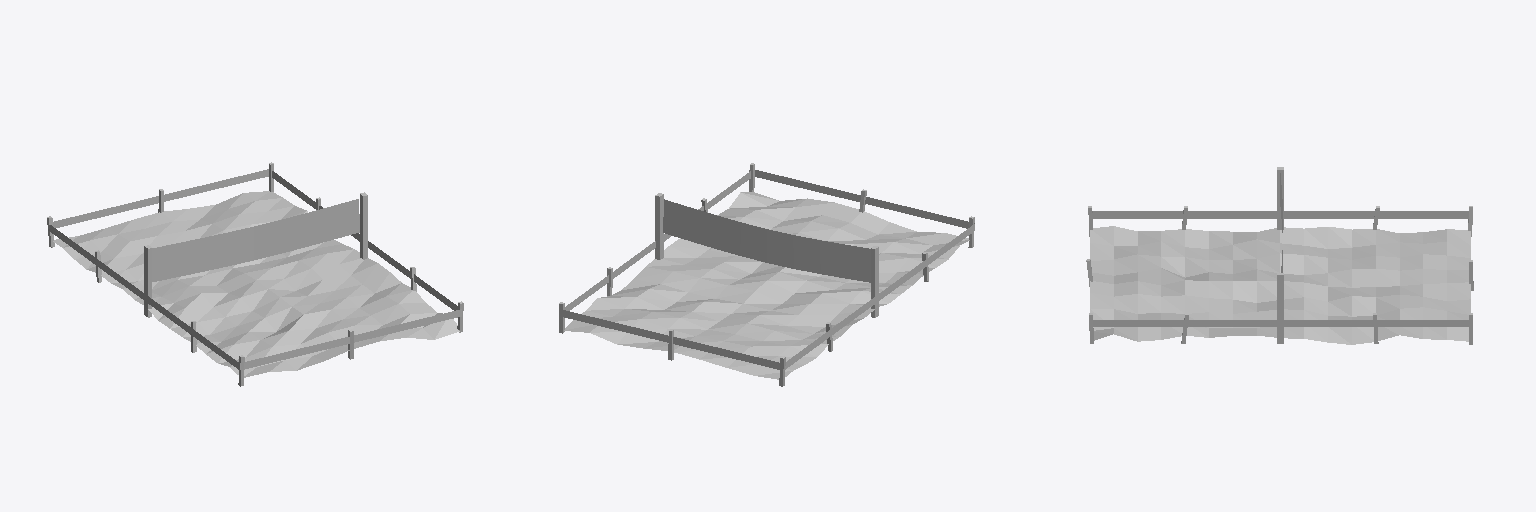
File: court2.obj
3 renders of one model, left to right at view 1: azimuth 30°, elevation 25°; view 2: azimuth 150°, elevation 25°; view 3: azimuth 270°, elevation 25°, orthographic.
Parts seen in each view (by area): view 1: Plane, Plane.001, Cube.011, Cube.001; view 2: Plane, Plane.001, Cube.011, Cube.001; view 3: Plane, Cube.011, Cube.001.
Part boxes in pixels (left/top/right/bottom): Plane: left=53, top=191, right=459, bottom=377; Plane.001: left=152, top=199, right=359, bottom=281; Cube.011: left=48, top=169, right=461, bottom=369; Cube.001: left=144, top=192, right=367, bottom=317; Plane: left=564, top=192, right=969, bottom=379; Plane.001: left=663, top=199, right=870, bottom=282; Cube.011: left=563, top=170, right=974, bottom=369; Cube.001: left=655, top=193, right=878, bottom=317; Plane: left=1090, top=226, right=1470, bottom=344; Cube.011: left=1093, top=211, right=1468, bottom=326; Cube.001: left=1277, top=167, right=1283, bottom=343.
Bounding box in the file's own units: 20.45 × 6.09 × 30.46.